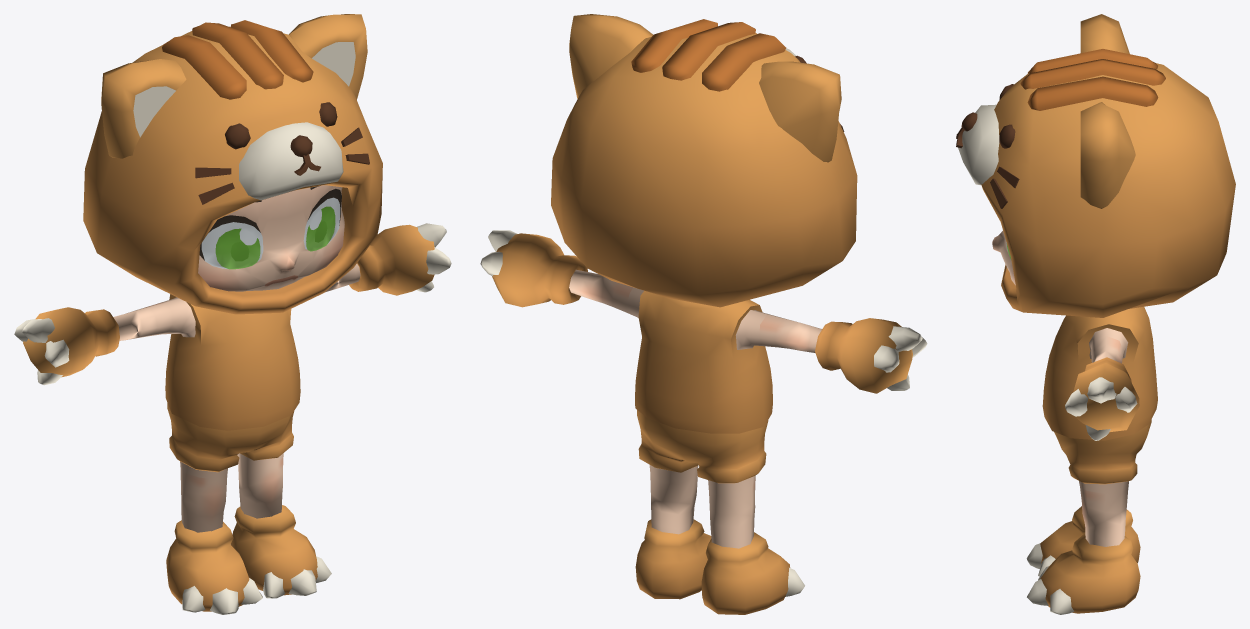
File: Chris.fbx
The picture shows the model from 3 angles, left to right: view 1: azimuth 30°, elevation 25°; view 2: azimuth 150°, elevation 25°; view 3: azimuth 270°, elevation 25°; orthographic projection. The views are drawn at different scales.
Visible parts, largest first — view 1: Headgear_37, Top_59, Shoes_28, Face_A3.003, Glove_9, Body_LegB_2.012, Bottom_53, Body_ArmB_2.003; view 2: Headgear_37, Top_59, Glove_9, Shoes_28, Bottom_53, Body_LegB_2.012, Body_ArmB_2.003; view 3: Headgear_37, Shoes_28, Top_59, Glove_9, Bottom_53, Body_LegB_2.012, Body_ArmB_2.003, Face_A3.003.
Boxes of the visible parts, x1,y1,x2,y2 form: Headgear_37: (83,14,382,314); Top_59: (165,294,300,430); Shoes_28: (166,505,331,614); Face_A3.003: (198,185,344,291); Glove_9: (14,223,451,385); Body_LegB_2.012: (180,453,283,532); Bottom_53: (167,403,294,472); Body_ArmB_2.003: (113,264,360,340); Headgear_37: (551,14,857,307); Top_59: (635,291,772,433); Glove_9: (480,230,927,393); Shoes_28: (635,519,804,614); Bottom_53: (637,410,768,483); Body_LegB_2.012: (649,465,755,548); Body_ArmB_2.003: (569,269,822,352); Headgear_37: (956,14,1235,317); Shoes_28: (1026,506,1140,614); Top_59: (1042,306,1157,440); Glove_9: (1065,357,1139,440); Bottom_53: (1054,419,1151,484); Body_LegB_2.012: (1079,481,1128,546); Body_ArmB_2.003: (1089,328,1128,363); Face_A3.003: (992,231,1015,285).
Size of the model in its own units: 143 by 176 by 85.51.
